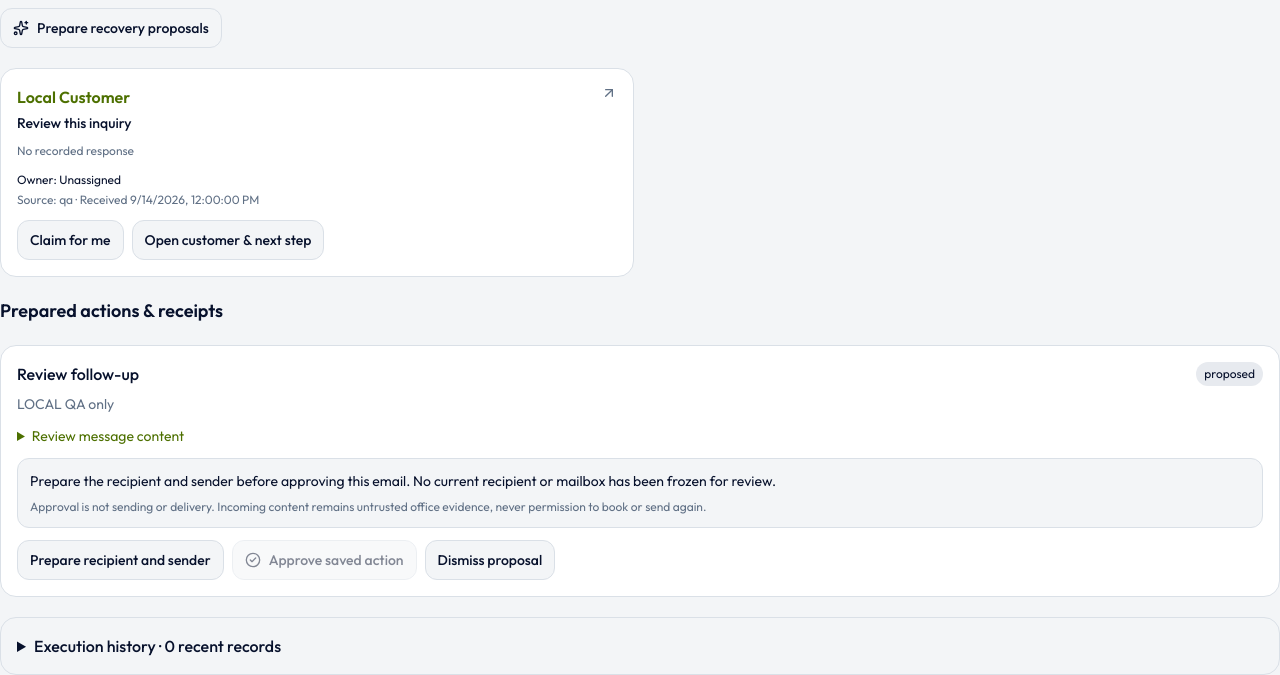
Test: Revenue Desk workflows › freezes the reviewed draft while a save is pending and sends it only once
(page scrolled)
Expected: the link "Review follow-up" is shown, [17,362,139,386]
Click the heading "Review message content". click: (108, 436)
box: [32,427,184,445]
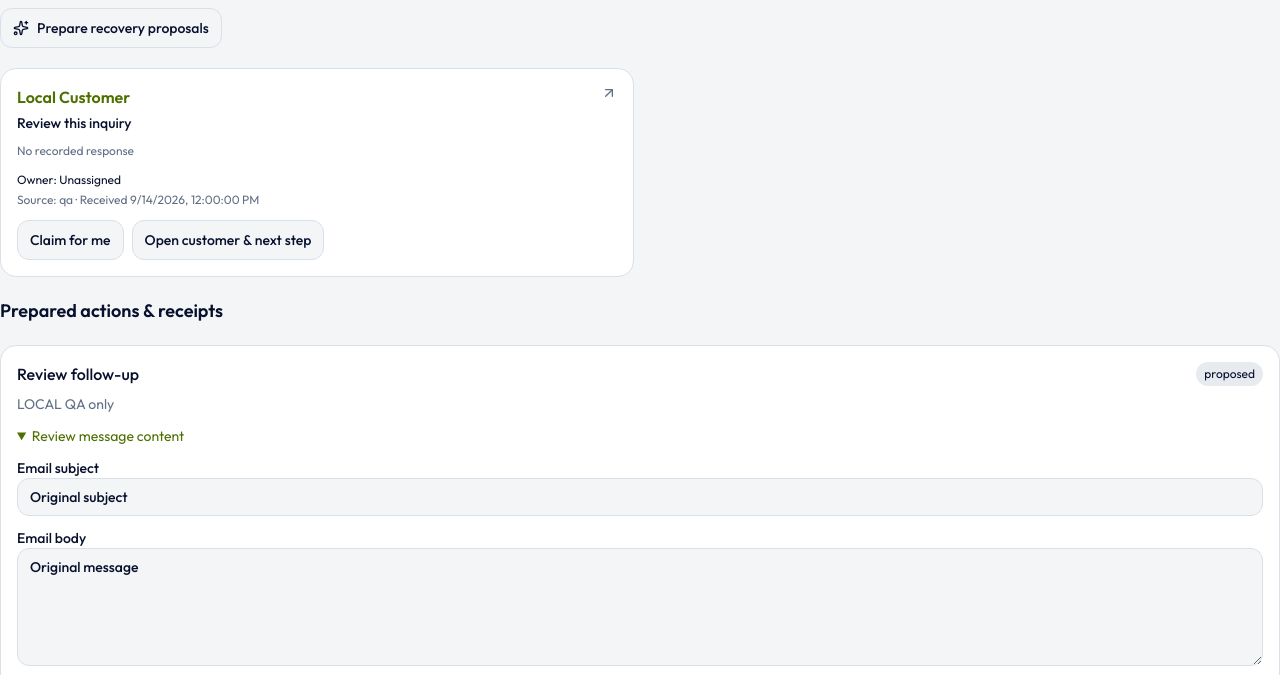
Replace the text in the text box labelled "Email body" with "Message being saved". click: (640, 607)
box: [17,548,1263,666]
(page scrolled)
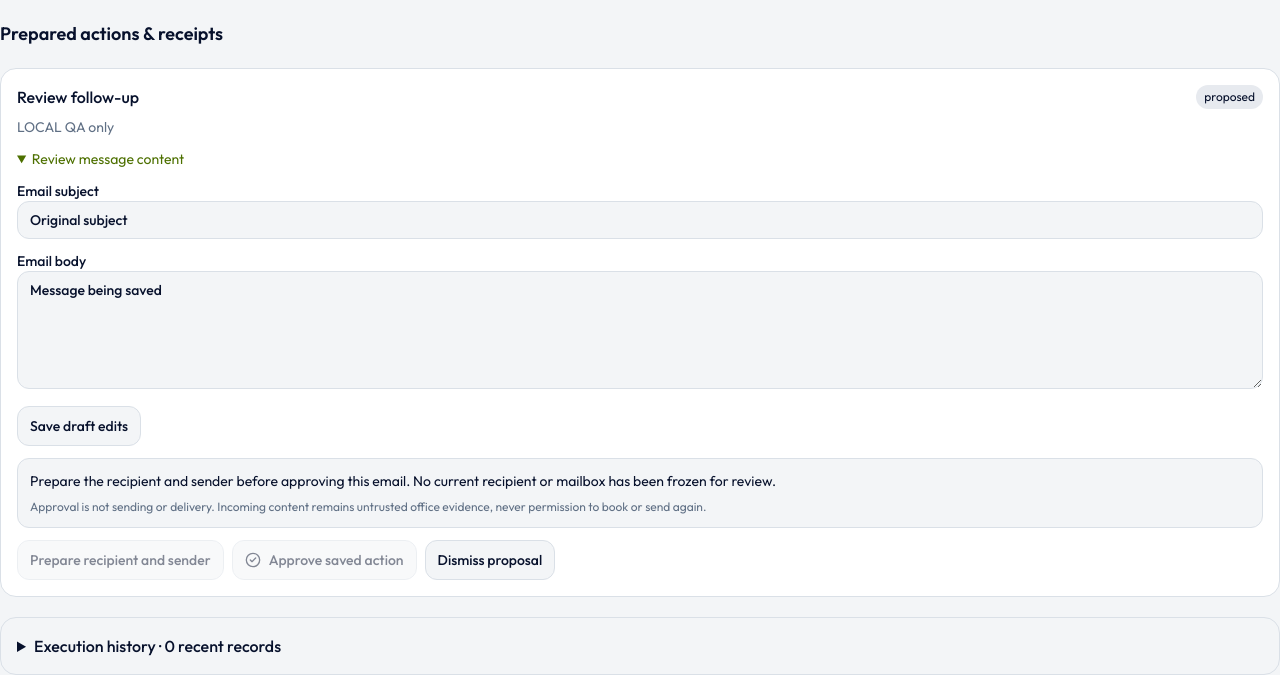
Click the button "Save draft edits". click: (79, 426)
box: [17,406,141,446]
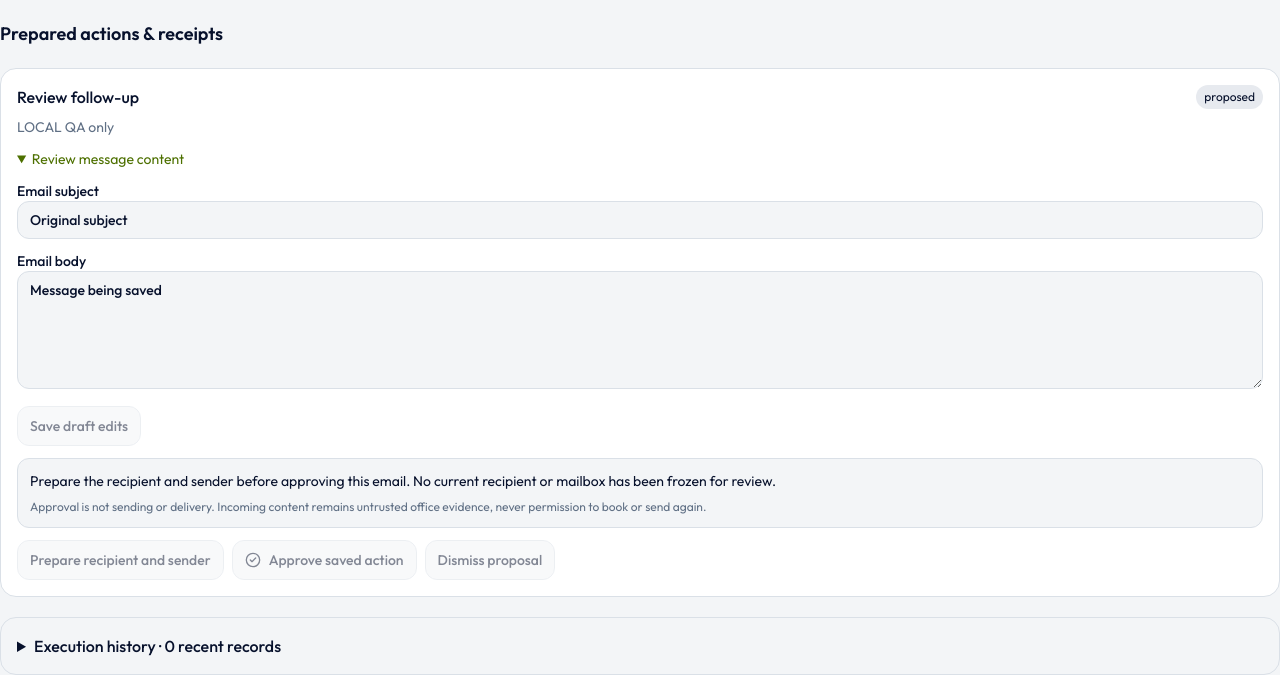
Click the button "Save draft edits". click: (79, 426)
box: [17,406,141,446]
(page scrolled)
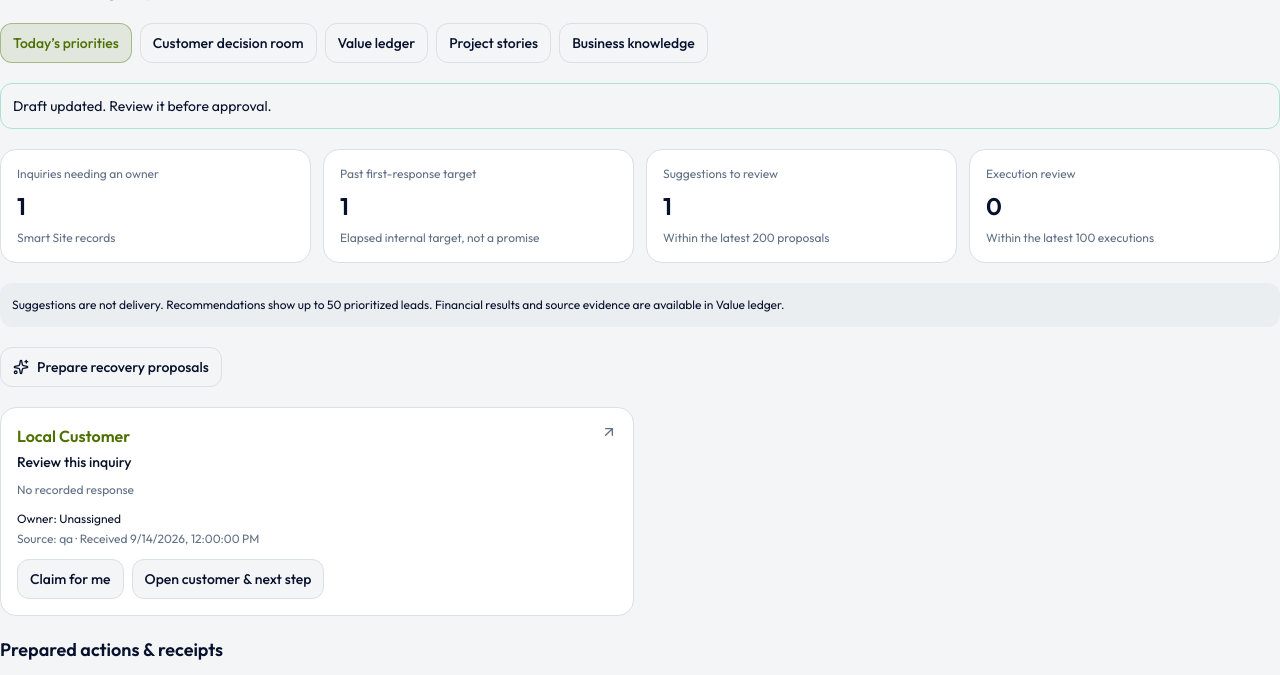
Now the text "Draft updated. Review it before approval." is shown, box [0,83,1279,129]
